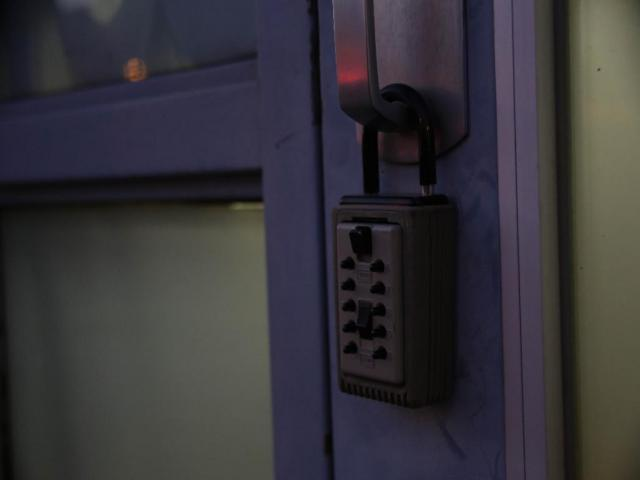Door-handle: (332, 0, 470, 166)
